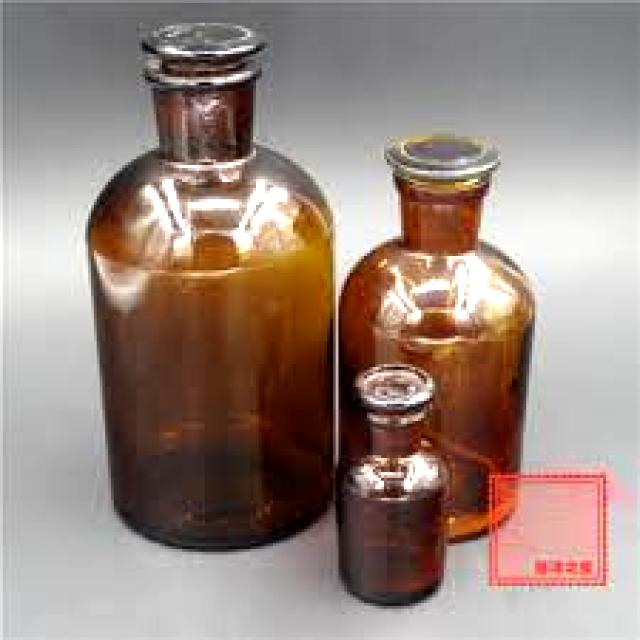Glass: (83, 19, 339, 552), (334, 128, 538, 542), (332, 364, 448, 606)
